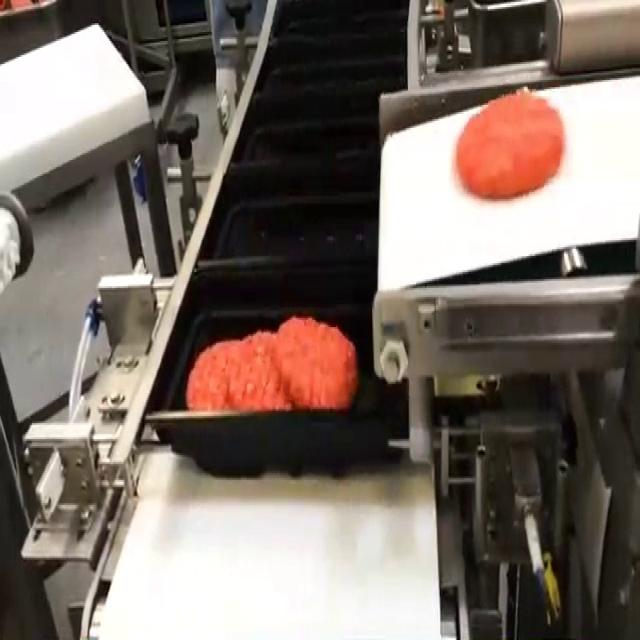hamburguer: (455, 89, 564, 199)
